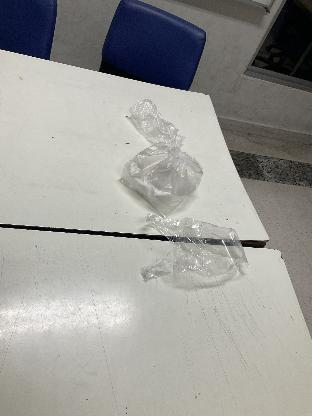Others: (128, 209, 256, 287), (102, 143, 208, 211), (123, 100, 183, 144)
